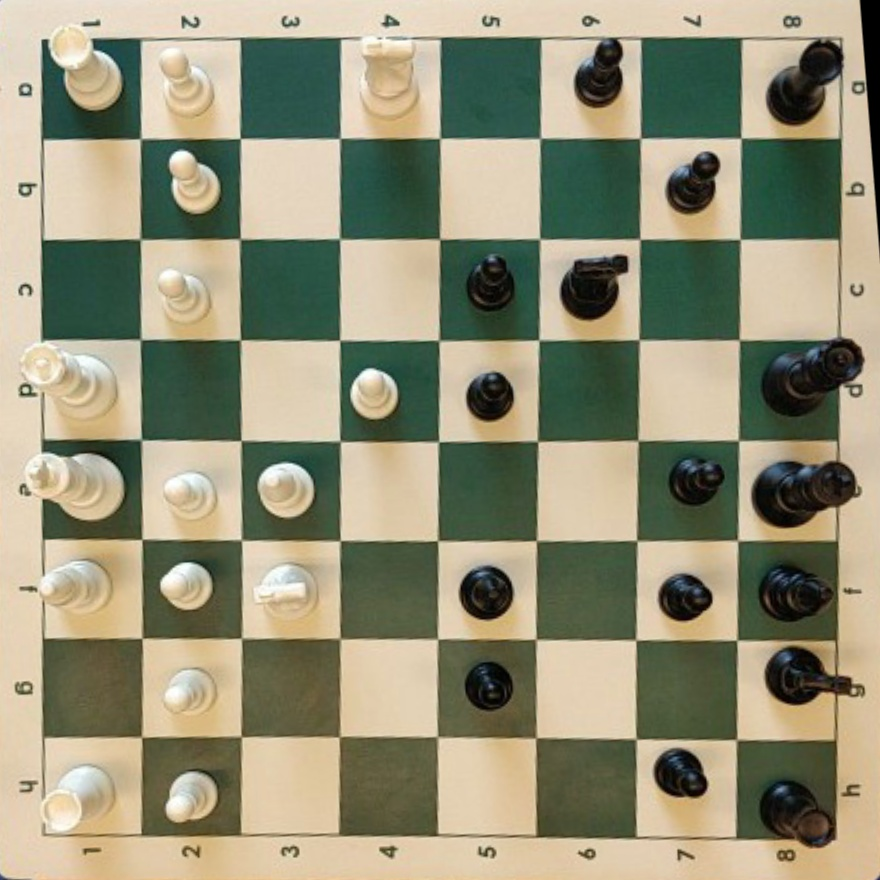black-bishop: (760, 564, 833, 621), (460, 565, 514, 619)
black-king: (754, 460, 858, 527)
black-knight: (766, 647, 865, 704), (560, 255, 628, 319)
black-pawn: (574, 37, 624, 105), (667, 151, 720, 212), (654, 749, 709, 798), (467, 254, 515, 310), (670, 456, 725, 504), (659, 573, 713, 621), (465, 661, 514, 711), (466, 371, 514, 420)
black-queen: (764, 339, 864, 415)
black-rook: (767, 39, 842, 123), (760, 779, 834, 847)
white-bishop: (37, 559, 111, 612), (257, 462, 315, 518)
white-king: (21, 451, 124, 521)
white-knight: (360, 42, 419, 118), (255, 563, 316, 618)
white-pawn: (159, 48, 214, 117), (167, 149, 221, 214), (164, 770, 218, 823), (157, 268, 209, 322), (159, 561, 212, 610), (163, 470, 216, 519), (350, 368, 398, 419), (163, 667, 215, 714)
white-queen: (19, 344, 117, 418)
white-rook: (49, 28, 123, 112), (40, 764, 115, 834)
